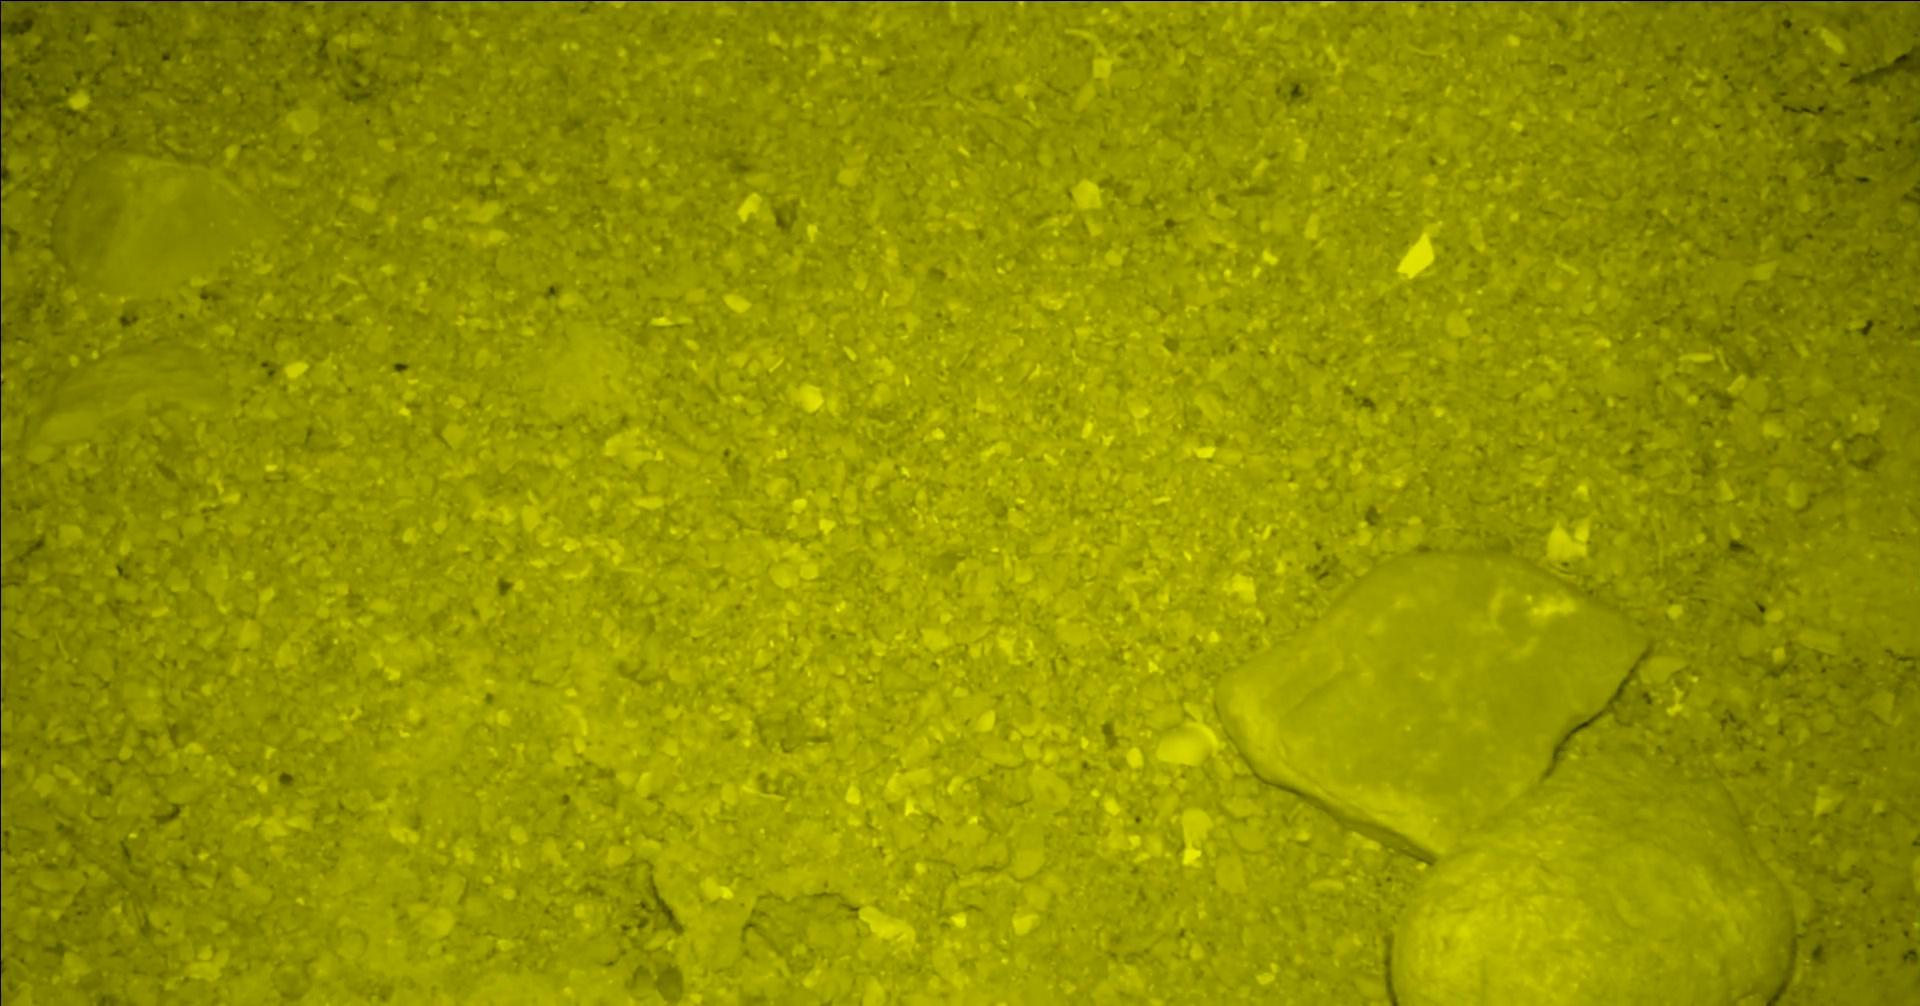ant: (1, 0, 72, 13)
